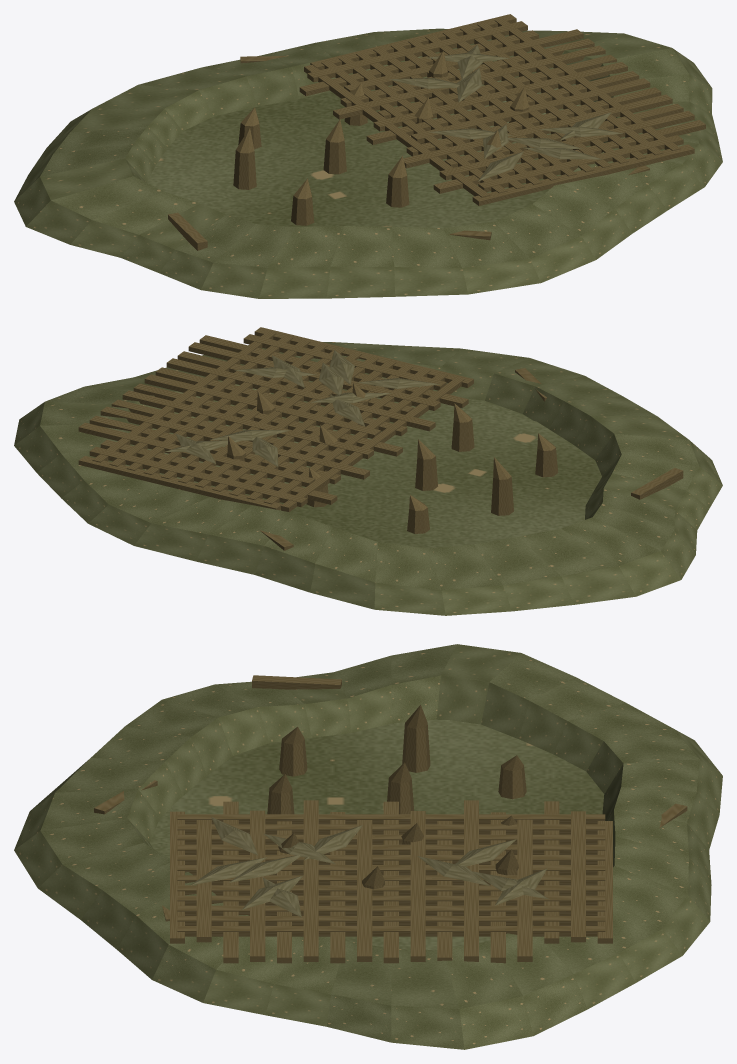
3 views of the same model, one above another, from view 1: azimuth 30°, elevation 25°; view 2: azimuth 150°, elevation 25°; view 3: azimuth 270°, elevation 25° (orthographic). The views are drawn at different scales.
Visible parts, largest first — view 1: garrison_part_0000, garrison_part_0001; view 2: garrison_part_0000, garrison_part_0001; view 3: garrison_part_0000, garrison_part_0001.
Part boxes in pixels (<box>): garrison_part_0000: <box>14,28,722,298</box>; garrison_part_0001: <box>168,14,705,250</box>; garrison_part_0000: <box>14,342,722,615</box>; garrison_part_0001: <box>78,327,683,550</box>; garrison_part_0000: <box>14,644,722,1049</box>; garrison_part_0001: <box>94,675,687,963</box>.
Size of the model in its own units: 2080 by 184 by 1588.
